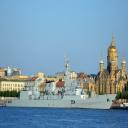Fragata: (6, 52, 118, 109)
